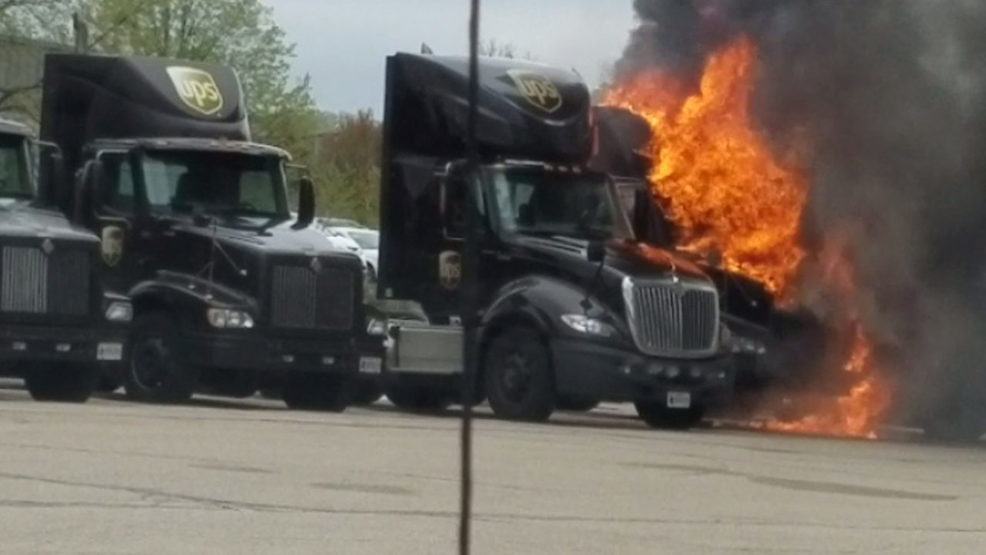fire: (646, 62, 805, 273), (794, 332, 886, 440)
smoke: (820, 12, 979, 321)
